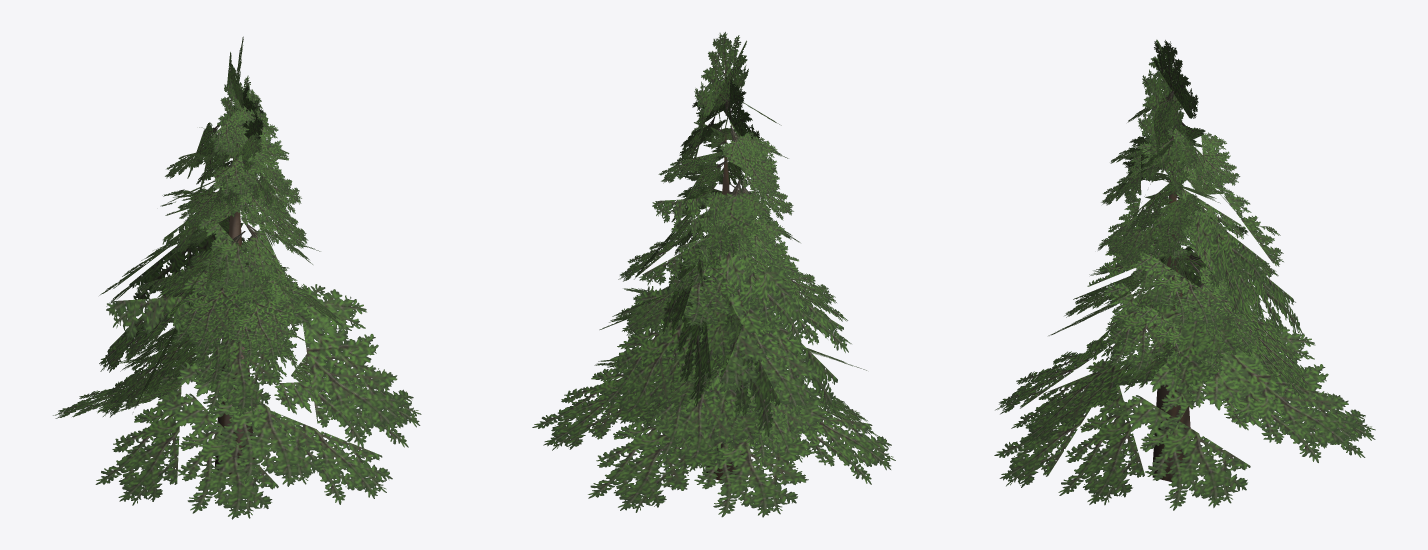
Rendered from Tree_07_Low.fbx.
3 views of the same model, side by side, from view 1: azimuth 30°, elevation 25°; view 2: azimuth 150°, elevation 25°; view 3: azimuth 270°, elevation 25° (orthographic).
Visible parts, largest first — view 1: polySurface2; view 2: polySurface2; view 3: polySurface2.
Part boxes in pixels (x1,y1,x2,y2): polySurface2: (53, 36, 421, 519); polySurface2: (532, 32, 895, 517); polySurface2: (994, 39, 1375, 510).
Bounding box in the file's own units: 569 × 653 × 594.
